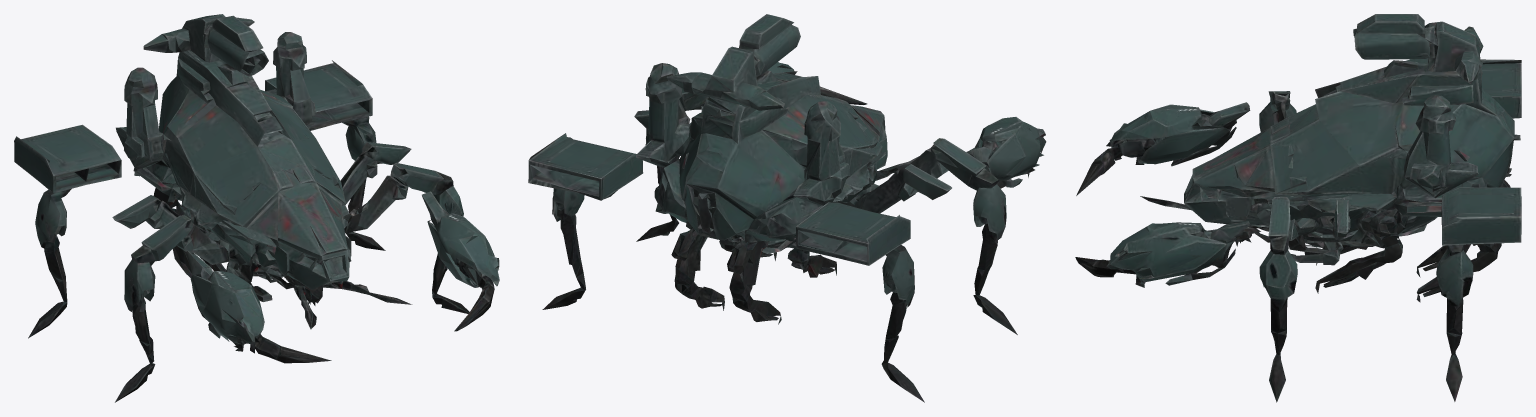
The model's file is enemy-mars-capital.glb.
The picture shows the model from 3 angles, left to right: view 1: azimuth 30°, elevation 25°; view 2: azimuth 150°, elevation 25°; view 3: azimuth 270°, elevation 25°; orthographic projection. The views are drawn at different scales.
Bounding box in the file's own units: 1.79 × 1.39 × 1.89.
1 material, 1 textured.
